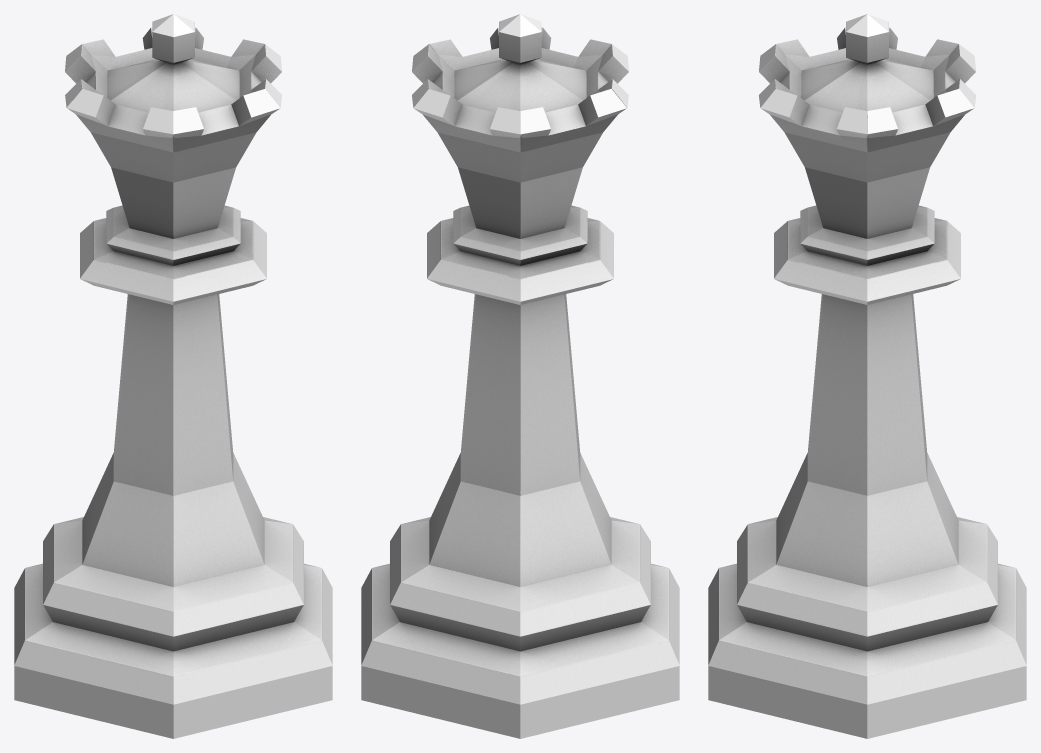
Rendered from queen.fbx.
3 views of the same model, side by side, from view 1: azimuth 30°, elevation 25°; view 2: azimuth 150°, elevation 25°; view 3: azimuth 270°, elevation 25° (orthographic).
Visible parts, largest first — view 1: Queen; view 2: Queen; view 3: Queen.
Boxes of the visible parts, x1=… form: Queen: x1=14, y1=14, x2=332, y2=738; Queen: x1=361, y1=14, x2=679, y2=738; Queen: x1=708, y1=14, x2=1026, y2=738.
Size of the model in its own units: 87.63 by 170 by 75.89.
